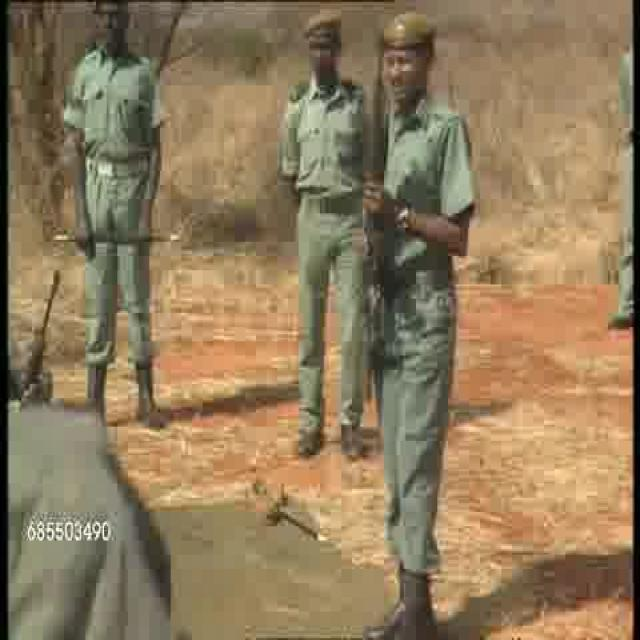poacher: (365, 1, 480, 632), (64, 2, 178, 425), (275, 1, 368, 454)
weapon: (370, 38, 390, 372)
